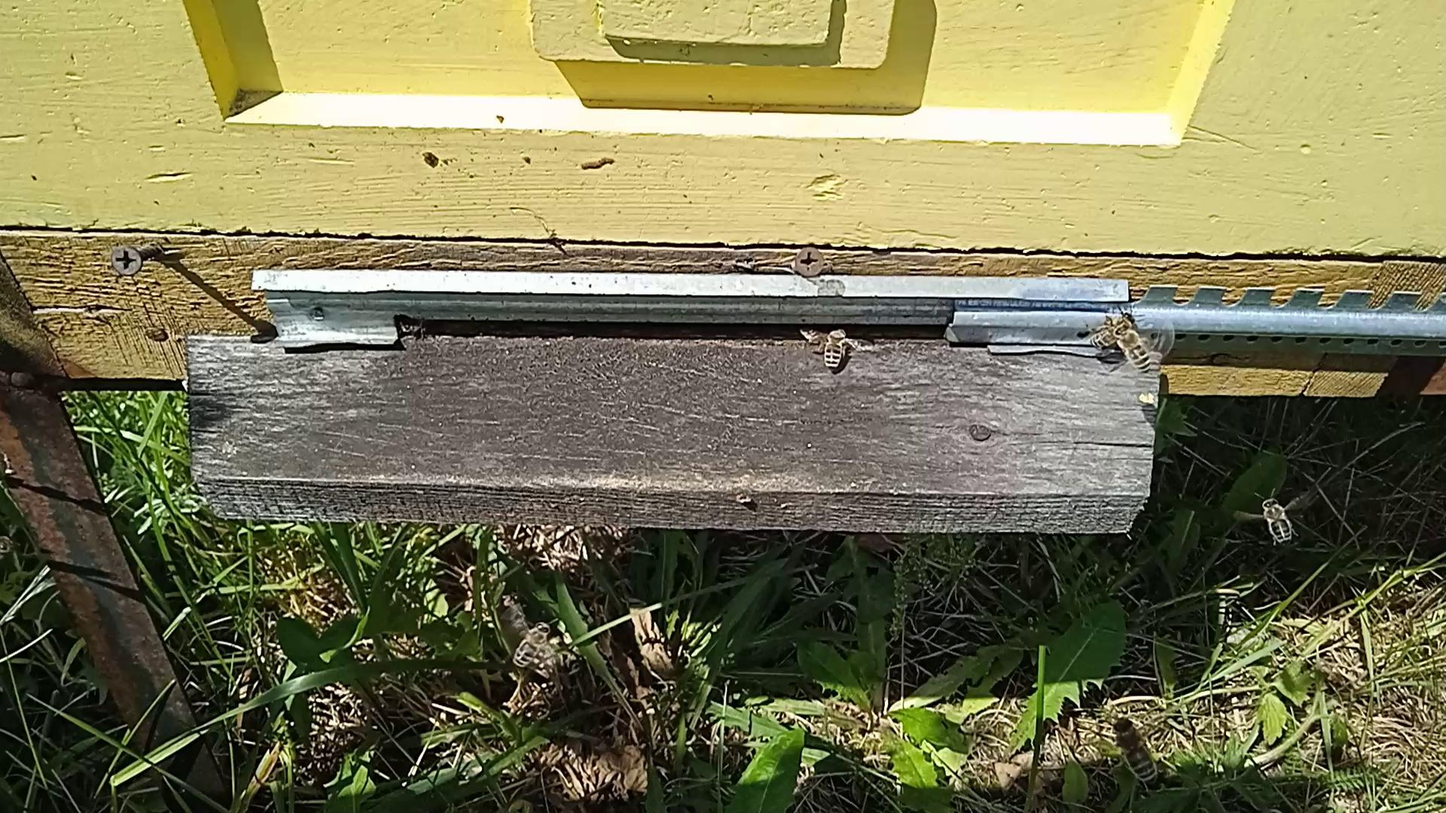worker-bee: (1112, 717, 1158, 784), (1113, 324, 1152, 373), (513, 621, 553, 668), (1086, 312, 1133, 349), (1261, 498, 1294, 545), (816, 327, 851, 371), (395, 315, 430, 339), (1, 534, 16, 560)
